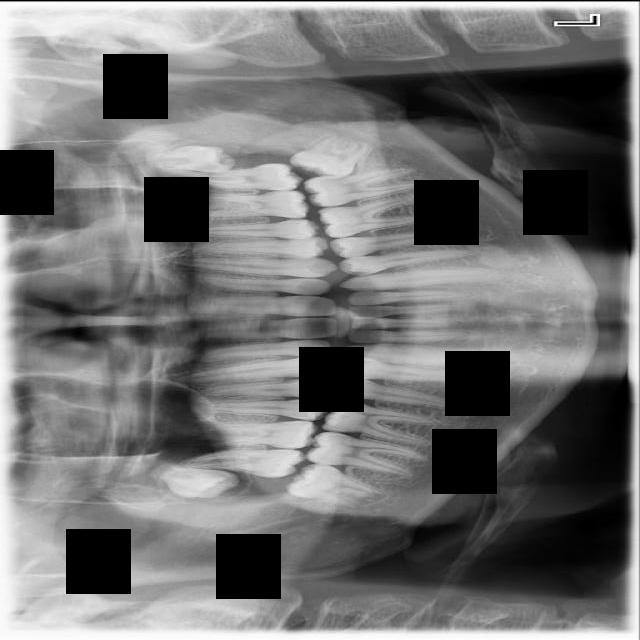3M ESPE Implant: (150, 461, 243, 504)
73: (571, 43, 590, 53)
BioHorizons Implant: (180, 162, 305, 190)
BioLife Implant: (147, 142, 237, 173)
Biomet 3i Implant: (288, 122, 371, 188)
Blue Sky Bio Implant: (302, 163, 423, 209)
Caries: (177, 448, 307, 479)
Implant: (304, 426, 429, 480)
Keystone Dental Implant: (284, 455, 392, 516)
